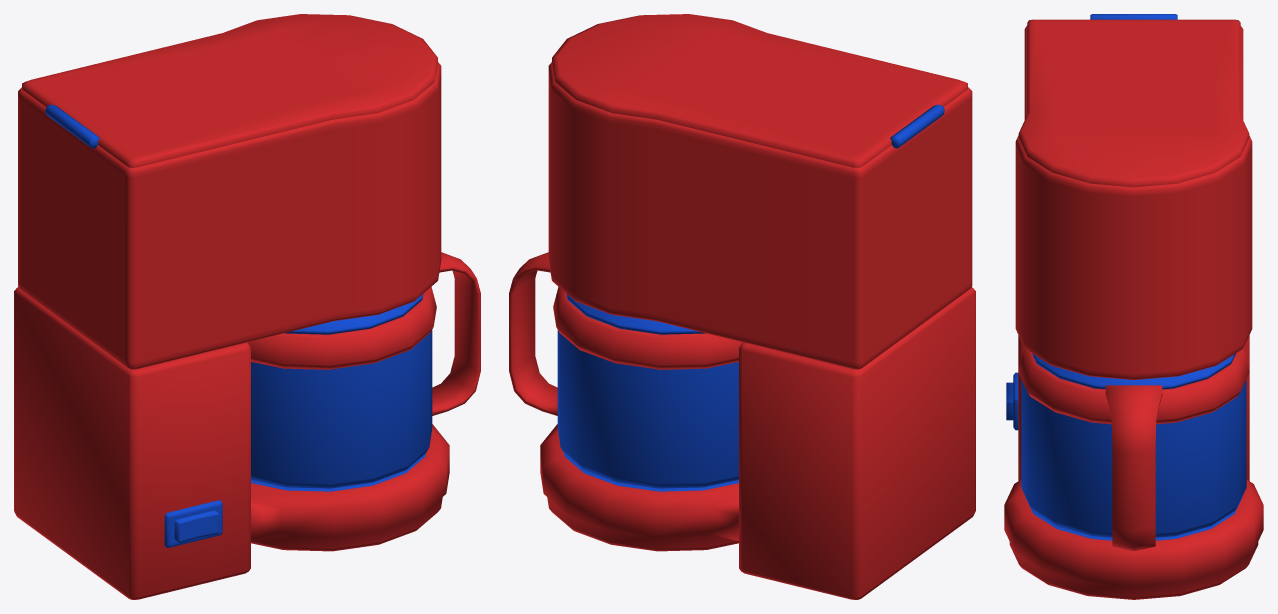
Rendered from MOD_APP_Coffeemaker_01.fbx.
3 renders of one model, left to right at view 1: azimuth 30°, elevation 25°; view 2: azimuth 150°, elevation 25°; view 3: azimuth 270°, elevation 25°, orthographic. The views are drawn at different scales.
Parts seen in each view (by area): view 1: MOD_PRO_Coffeemaker_01, MOD_PRO_Coffeemaker_01_Pot_01, MOD_PRO_Coffeemaker_01_Lid_01, MOD_PRO_Coffeemaker_01_Button_01; view 2: MOD_PRO_Coffeemaker_01, MOD_PRO_Coffeemaker_01_Pot_01, MOD_PRO_Coffeemaker_01_Lid_01; view 3: MOD_PRO_Coffeemaker_01, MOD_PRO_Coffeemaker_01_Pot_01, MOD_PRO_Coffeemaker_01_Lid_01.
Part boxes in pixels (x1=…): MOD_PRO_Coffeemaker_01: x1=14, y1=14, x2=449, y2=599; MOD_PRO_Coffeemaker_01_Pot_01: x1=247, y1=252, x2=480, y2=488; MOD_PRO_Coffeemaker_01_Lid_01: x1=285, y1=294, x2=423, y2=334; MOD_PRO_Coffeemaker_01_Button_01: x1=174, y1=510, x2=219, y2=542; MOD_PRO_Coffeemaker_01: x1=540, y1=14, x2=975, y2=599; MOD_PRO_Coffeemaker_01_Pot_01: x1=509, y1=252, x2=742, y2=488; MOD_PRO_Coffeemaker_01_Lid_01: x1=566, y1=294, x2=704, y2=334; MOD_PRO_Coffeemaker_01: x1=1004, y1=14, x2=1263, y2=599; MOD_PRO_Coffeemaker_01_Pot_01: x1=1018, y1=348, x2=1249, y2=551; MOD_PRO_Coffeemaker_01_Lid_01: x1=1032, y1=353, x2=1235, y2=389.
Bounding box in the file's own units: 0.3497 × 0.3595 × 0.2011.
